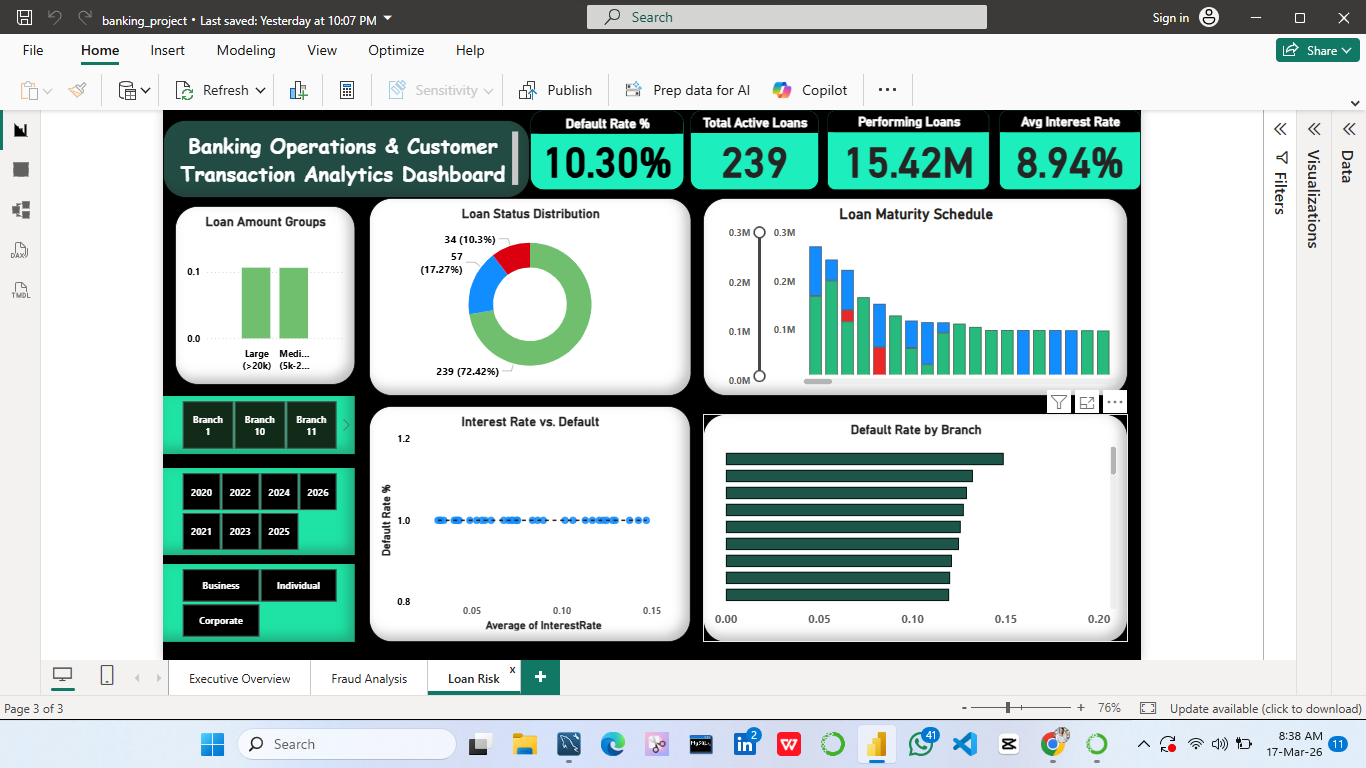

Layout of this report page (visuals, bound fields, positions):
{"tool":"powerbi","page":{"name":"Loan Risk","canvas":[1280,720],"ordinal":2},"visuals":[{"type":"card","title":"Default Rate %","fields":{"Values":["banking_project loans_cleaned.Default Rate %"]},"box":[480.4,0,201.6,104.7],"z":0},{"type":"card","title":"Total Active Loans","fields":{"Values":["banking_project loans_cleaned.Active Loan Count"]},"box":[689.9,0,168.9,104.7],"z":1000},{"type":"card","title":"Performing Loans","fields":{"Values":["banking_project loans_cleaned.Healthy Portfolio Value"]},"box":[869.2,0,213.4,104.7],"z":2000},{"type":"card","title":"Avg Interest Rate","fields":{"Values":["banking_project loans_cleaned.Avg Portfolio Interest"]},"box":[1094.4,0,185.9,104.7],"z":3000},{"type":"scatterChart","title":"Interest Rate vs. Default","fields":{"X":["Avg(banking_project loans_cleaned.InterestRate)"],"Y":["banking_project loans_cleaned.Default Rate %"],"Category":["banking_project loans_cleaned.LoanID"]},"box":[270.1,387.9,420.7,309.4],"z":4000},{"type":"columnChart","title":"Loan Maturity Schedule","fields":{"Category":["banking_project loans_cleaned.EstimatedEndDate"],"Y":["Sum(banking_project loans_cleaned.PrincipalAmount)"],"Series":["banking_project loans_cleaned.Loan Status"]},"box":[706.9,115.2,556.4,259.2],"z":5000},{"type":"donutChart","title":"Loan Status Distribution","fields":{"Y":["CountNonNull(banking_project loans_cleaned.LoanID)"],"Category":["banking_project loans_cleaned.Loan Status"]},"box":[269.7,115.2,421.5,259.2],"z":6000},{"type":"clusteredBarChart","title":"Default Rate by Branch","fields":{"Category":["banking_project branches_cleaned.BranchName"],"Y":["banking_project loans_cleaned.Default Rate %"]},"box":[706.8,398,556.1,298.5],"z":7000},{"type":"slicer","fields":{"Values":["banking_project branches_cleaned.BranchName"]},"box":[0,374.4,251.3,75.9],"z":8000},{"type":"slicer","fields":{"Values":["banking_project transactions_cleaned.Year"]},"box":[0,468.7,251.3,113.9],"z":9000},{"type":"slicer","fields":{"Values":["banking_project customers_cleaned.CustomerType"]},"box":[0,594.3,251.3,102.1],"z":10000},{"type":"textbox","box":[0,13.1,480.4,102.1],"z":11000},{"type":"clusteredColumnChart","title":"Loan Amount Groups","fields":{"Category":["banking_project loans_cleaned.Loan Size"],"Y":["banking_project loans_cleaned.Default Rate %"]},"box":[15.7,125.7,235.6,234.3],"z":12000}]}

Visuals, with their boxes on the page's 1280x720 design canvas (x1, y1, x2, y2). These are canvas units, not pixel positions in the 1366x768 screenshot, which may show the page scaled, cropped or inside an application window:
"Default Rate %" card: detection(480, 0, 682, 105)
"Total Active Loans" card: detection(690, 0, 859, 105)
"Performing Loans" card: detection(869, 0, 1083, 105)
"Avg Interest Rate" card: detection(1094, 0, 1280, 105)
"Interest Rate vs. Default" scatterChart: detection(270, 388, 691, 697)
"Loan Maturity Schedule" columnChart: detection(707, 115, 1263, 374)
"Loan Status Distribution" donutChart: detection(270, 115, 691, 374)
"Default Rate by Branch" clusteredBarChart: detection(707, 398, 1263, 696)
slicer - banking_project branches_cleaned.BranchName: detection(0, 374, 251, 450)
slicer - banking_project transactions_cleaned.Year: detection(0, 469, 251, 583)
slicer - banking_project customers_cleaned.CustomerType: detection(0, 594, 251, 696)
textbox: detection(0, 13, 480, 115)
"Loan Amount Groups" clusteredColumnChart: detection(16, 126, 251, 360)
